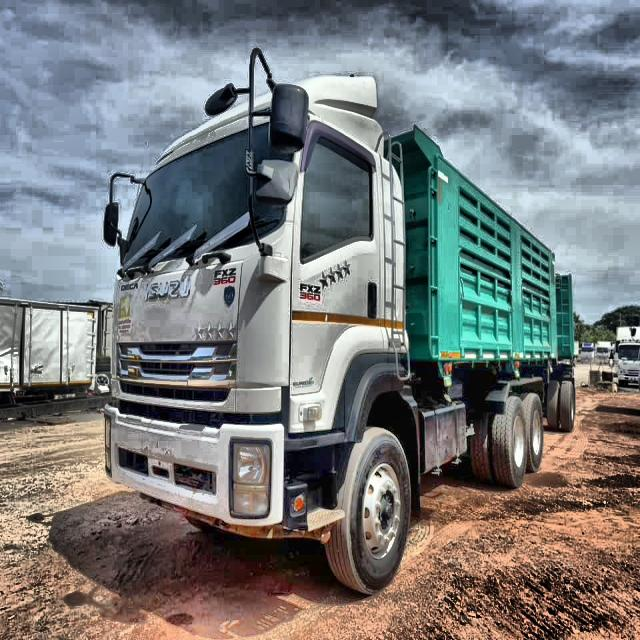trailer: (103, 70, 572, 592)
